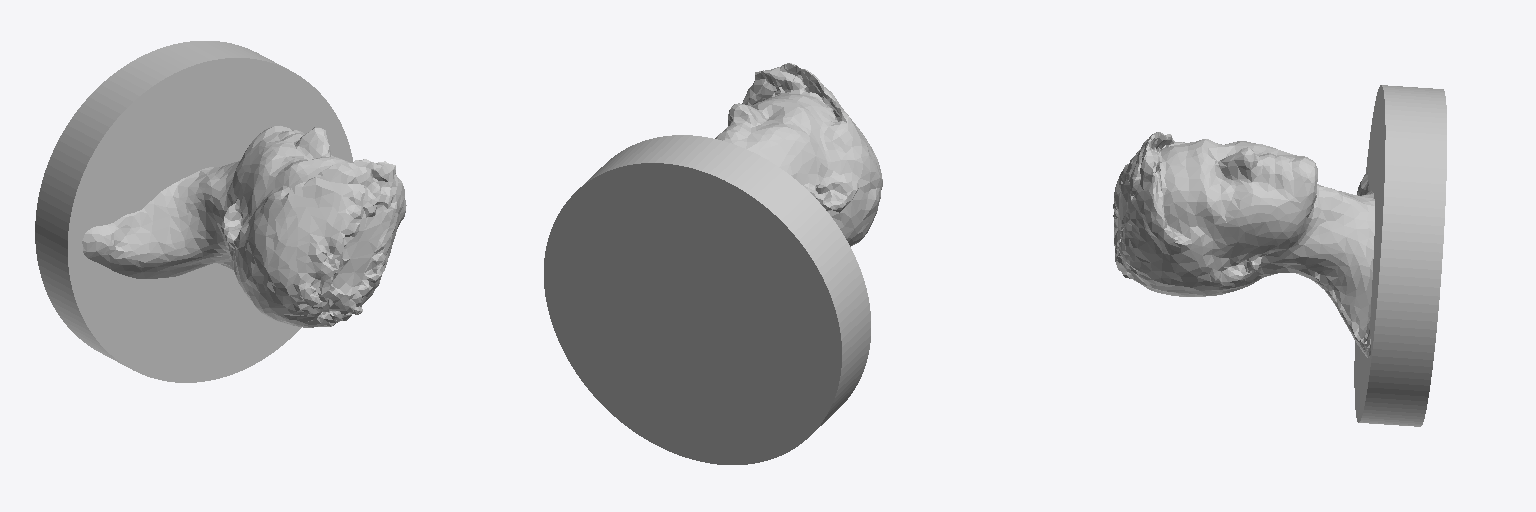
File: hasi.obj
3 renders of one model, left to right at view 1: azimuth 30°, elevation 25°; view 2: azimuth 150°, elevation 25°; view 3: azimuth 270°, elevation 25°, orthographic.
Visible parts, largest first — view 1: <STL_BINARY>; view 2: <STL_BINARY>; view 3: <STL_BINARY>.
Part boxes in pixels (x1,y1,x2,y2): <STL_BINARY>: (35, 41, 406, 382); <STL_BINARY>: (544, 63, 882, 464); <STL_BINARY>: (1113, 85, 1446, 426).
Size of the model in its own units: 439 by 442 by 431.